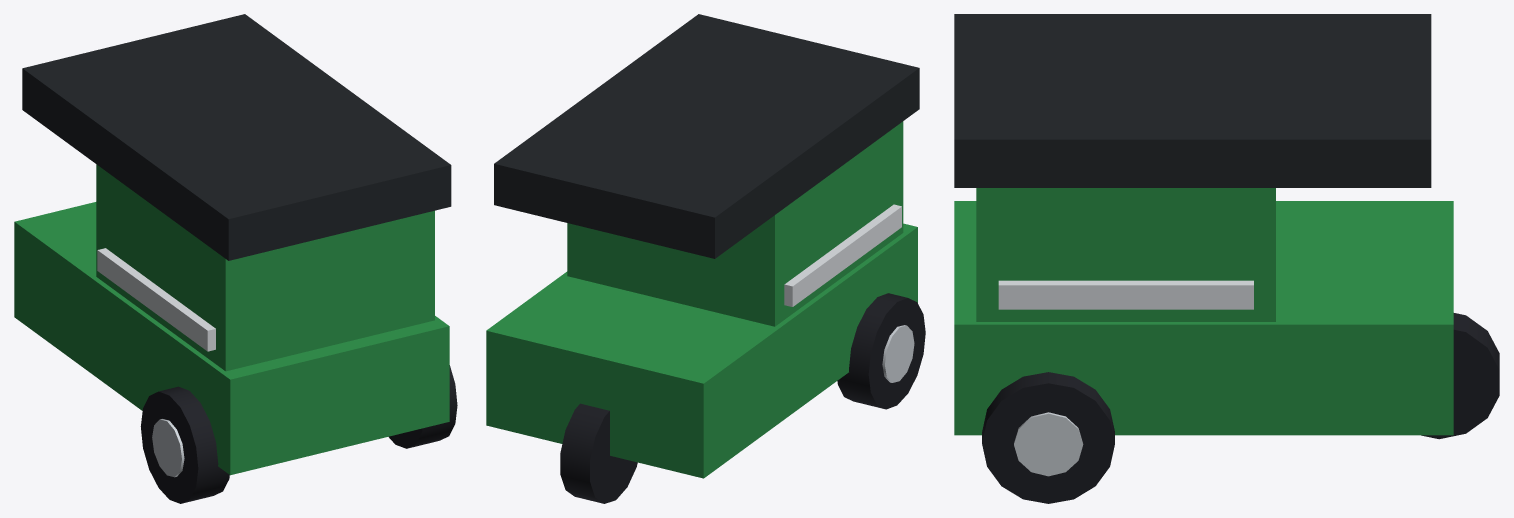
The model's file is cng_rickshaw.glb.
3 renders of one model, left to right at view 1: azimuth 30°, elevation 25°; view 2: azimuth 150°, elevation 25°; view 3: azimuth 270°, elevation 25°, orthographic. The views are drawn at different scales.
Parts seen in each view (by area): view 1: cng_rickshaw; view 2: cng_rickshaw; view 3: cng_rickshaw.
Part boxes in pixels (x1=…): cng_rickshaw: x1=14, y1=14, x2=457, y2=503; cng_rickshaw: x1=486, y1=14, x2=925, y2=503; cng_rickshaw: x1=954, y1=14, x2=1499, y2=503.
Bounding box in the file's own units: 1.59 × 1.76 × 2.46.
